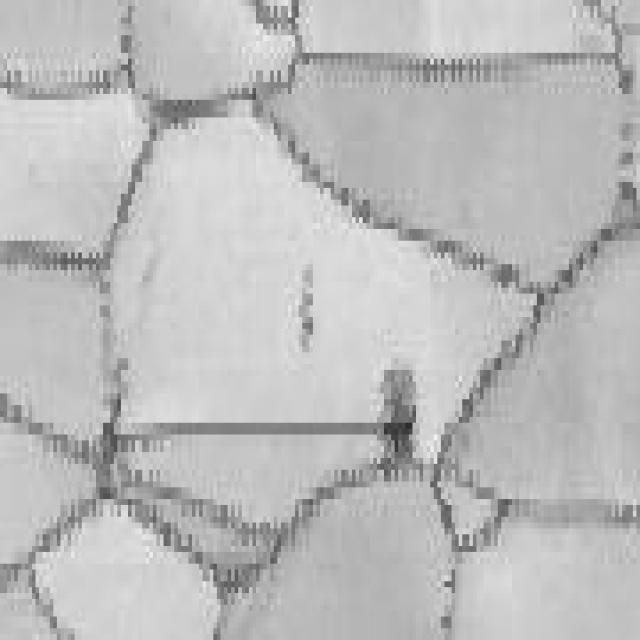good_void: (371, 364, 420, 475), (293, 263, 315, 352)
